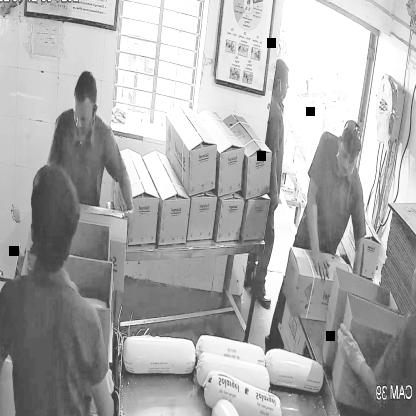no_goggles: (335, 148, 361, 167), (73, 106, 98, 125)
